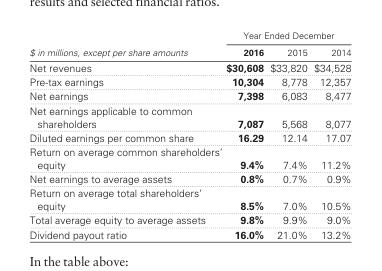table: (28, 29, 350, 240)
table column: (28, 29, 223, 240), (266, 29, 310, 240), (223, 29, 266, 240), (310, 29, 350, 240)
table column header: (28, 29, 350, 59)
table row: (28, 102, 350, 129), (28, 144, 350, 171), (28, 185, 350, 212), (28, 43, 350, 59), (28, 59, 350, 74), (28, 129, 350, 144), (28, 29, 350, 43), (28, 74, 350, 88), (28, 88, 350, 102), (28, 171, 350, 185), (28, 212, 350, 226), (28, 226, 350, 240)
table spanning cell: (28, 29, 223, 59), (223, 29, 350, 43)
